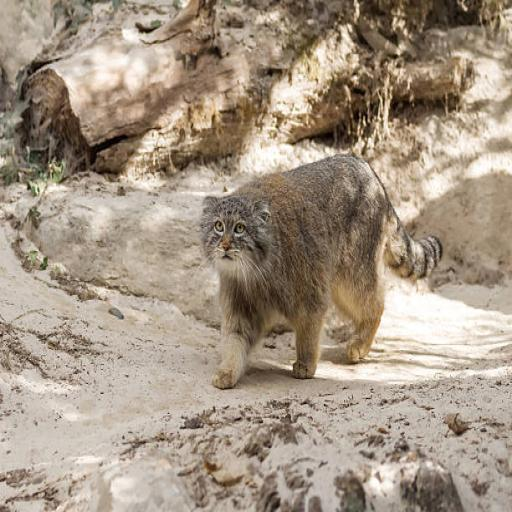manul: (201, 156, 442, 388)
